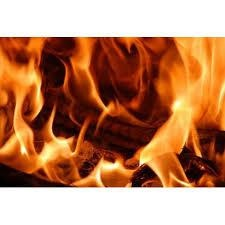fire: (0, 41, 192, 178)
